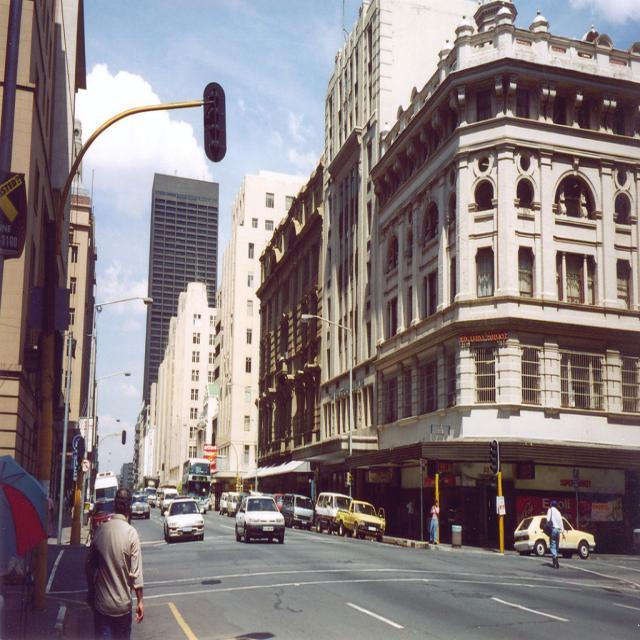off traffic light: (200, 83, 230, 158)
